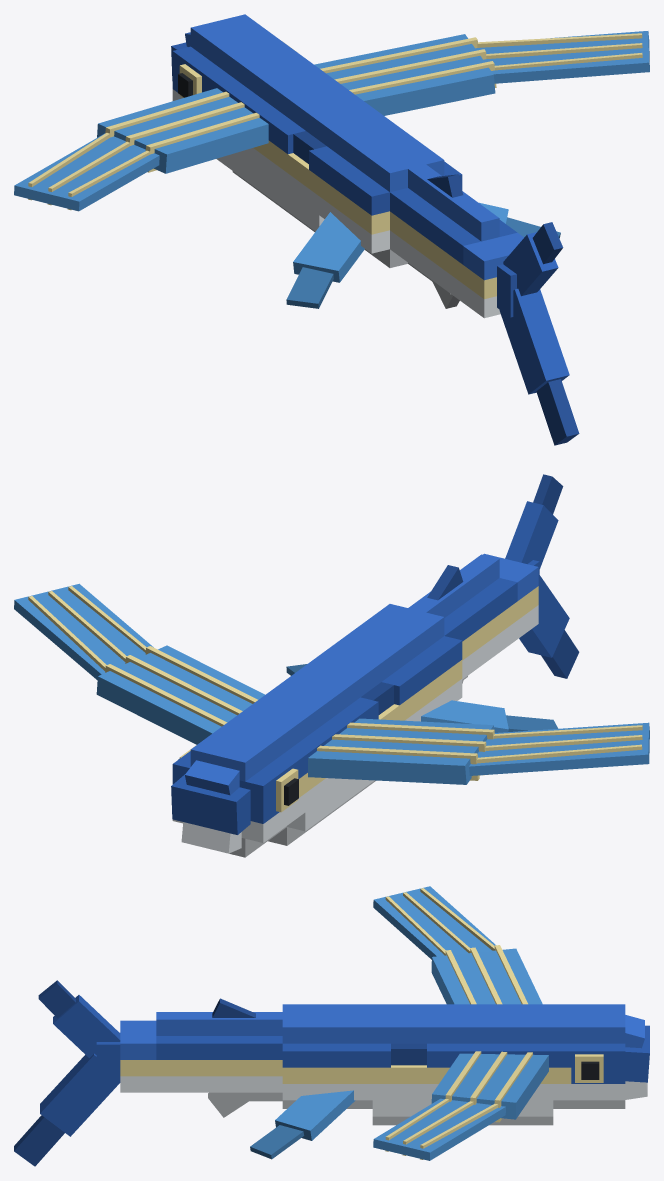
Rendered from FlyingFish.obj.
3 renders of one model, top to bottom at view 1: azimuth 30°, elevation 25°; view 2: azimuth 150°, elevation 25°; view 3: azimuth 270°, elevation 25°, orthographic. The views are drawn at different scales.
Visible parts, largest first — view 1: WingR, WingL, S3, Tail, S2, S5, S1, Head, S4; view 2: WingL, WingR, Head, S3, S1, S2, Tail, S5, S4; view 3: S3, WingL, WingR, Head, S2, Tail, S4, S5, S1.
Boxes of the visible parts, <box> form: WingR: <box>314,31,649,115</box>; WingL: <box>14,88,268,211</box>; S3: <box>286,121,560,308</box>; Tail: <box>497,222,579,445</box>; S2: <box>267,83,391,231</box>; S5: <box>431,195,523,318</box>; S1: <box>214,45,338,209</box>; Head: <box>171,14,297,100</box>; S4: <box>390,164,467,308</box>; WingL: <box>308,718,649,784</box>; WingR: <box>14,583,264,744</box>; Head: <box>171,719,305,857</box>; S3: <box>286,604,557,732</box>; S1: <box>233,680,357,845</box>; S2: <box>285,642,409,806</box>; Tail: <box>505,474,579,678</box>; S5: <box>460,553,538,661</box>; S4: <box>408,565,486,683</box>; S3: <box>250,1004,372,1159</box>; WingL: <box>373,886,542,1004</box>; WingR: <box>373,1051,548,1160</box>; Head: <box>553,1004,649,1108</box>; S2: <box>372,1004,462,1125</box>; Tail: <box>14,980,120,1166</box>; S4: <box>208,998,282,1117</box>; S5: <box>120,1012,210,1092</box>; S1: <box>463,1004,553,1125</box>.
Size of the model in its own units: 12.25 by 3.9 by 12.33.
1 material, 1 textured.
